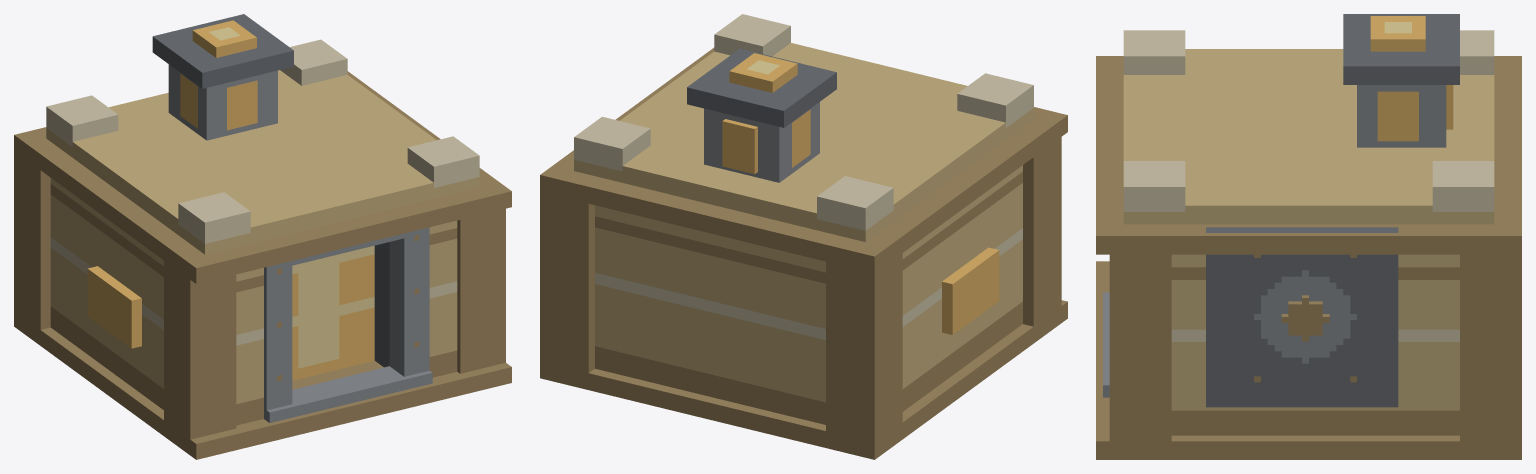
File: body.glb
The picture shows the model from 3 angles, left to right: view 1: azimuth 30°, elevation 25°; view 2: azimuth 150°, elevation 25°; view 3: azimuth 270°, elevation 25°; orthographic projection. The views are drawn at different scales.
Size of the model in its own units: 62 by 55 by 62.
